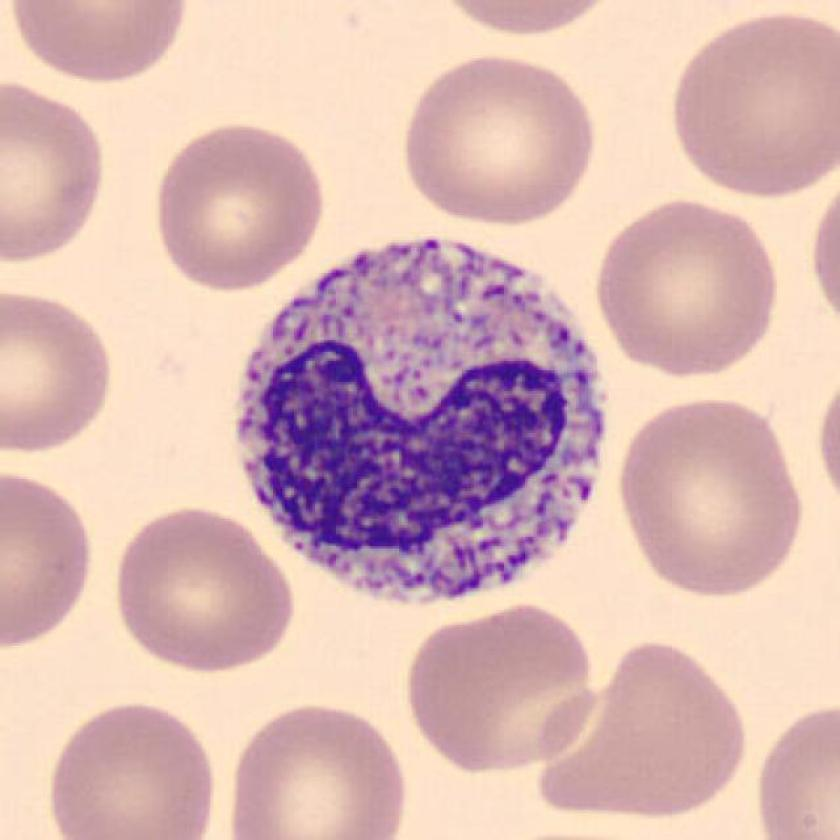neutrophil: (240, 236, 605, 603)
